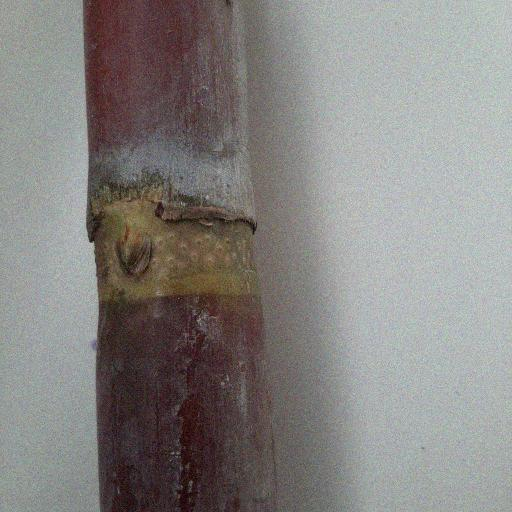Bud: (113, 224, 152, 279)
